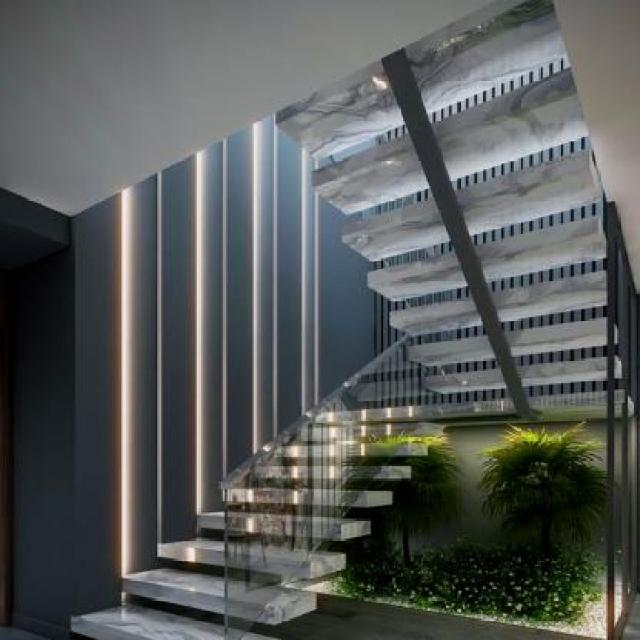stair: (81, 334, 442, 638)
